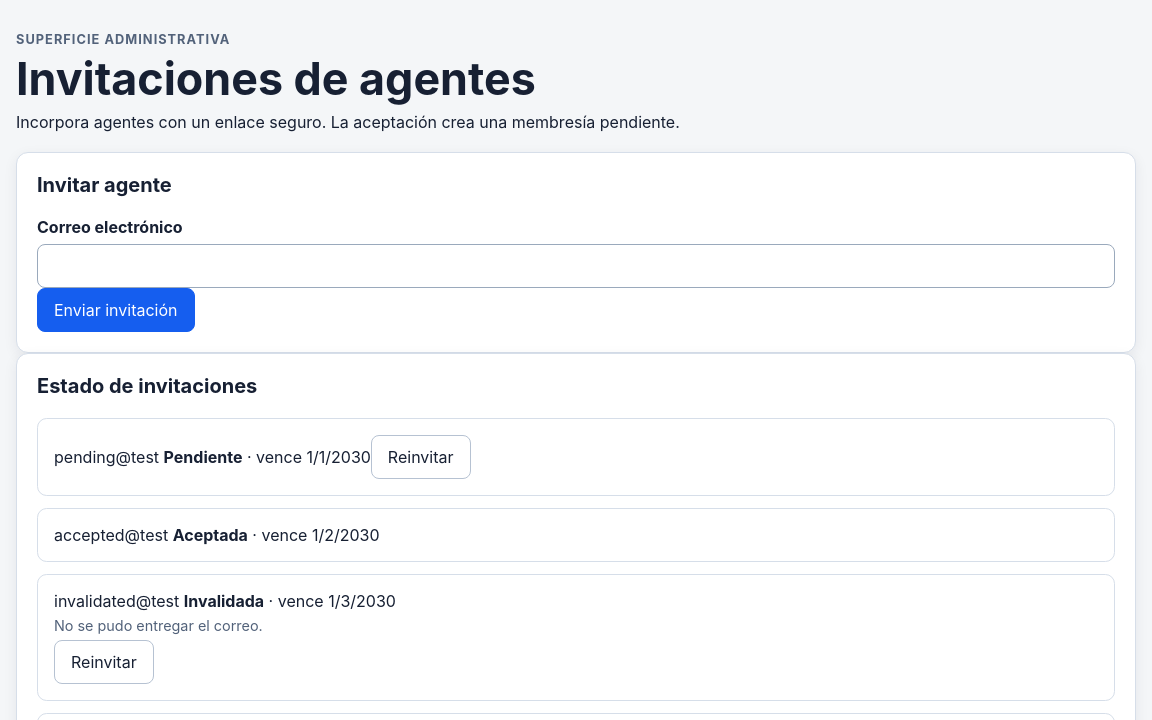
Test: UserManagementPage › represents every HU-007 status and offers safe reinvitation
Expected: the text "Pendiente" is shown, [164,447,242,467]
Expected: the text "Aceptada" is shown, [173,525,248,545]
Click the button "Reinvitar" in the row of "pending@test" at (421, 457), box [371,435,471,479]
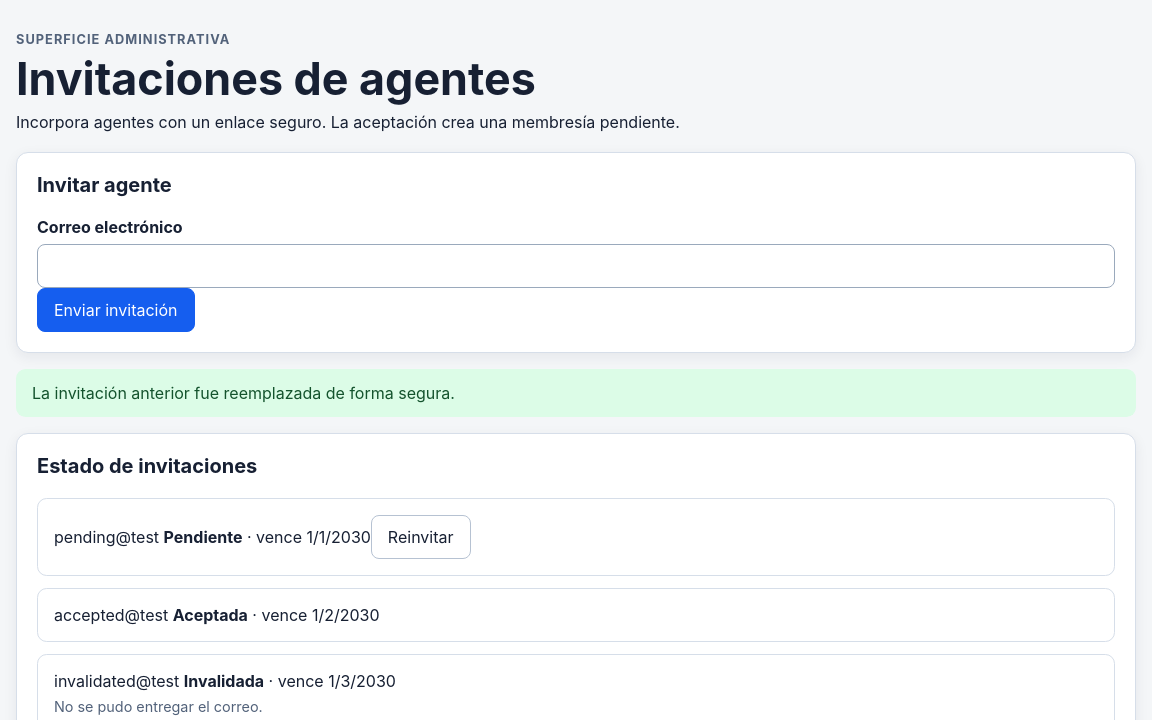
Now the message shows "reemplazada", box [32,383,455,403]
